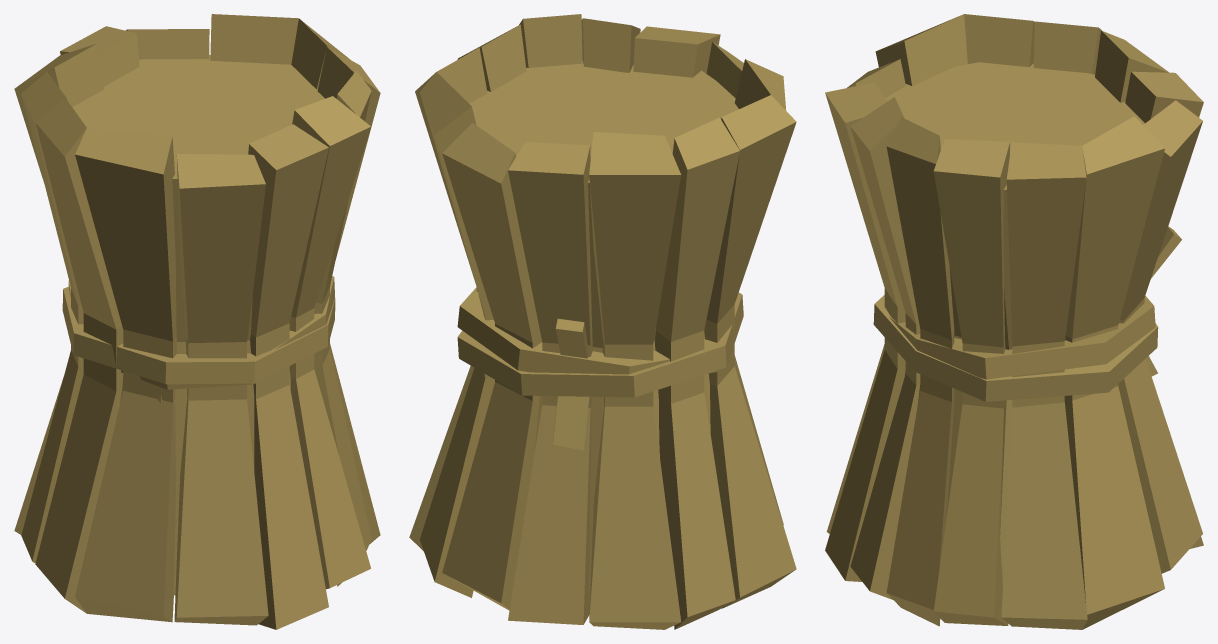
Rendered from hay.glb.
3 renders of one model, left to right at view 1: azimuth 30°, elevation 25°; view 2: azimuth 150°, elevation 25°; view 3: azimuth 270°, elevation 25°, orthographic.
Parts seen in each view (by area): view 1: Hay; view 2: Hay; view 3: Hay.
Boxes of the visible parts, bbox=[...] form: Hay: bbox=[14, 14, 380, 629]; Hay: bbox=[409, 14, 796, 629]; Hay: bbox=[825, 14, 1203, 629].
Bounding box in the file's own units: 0.121 × 0.1785 × 0.1249.
